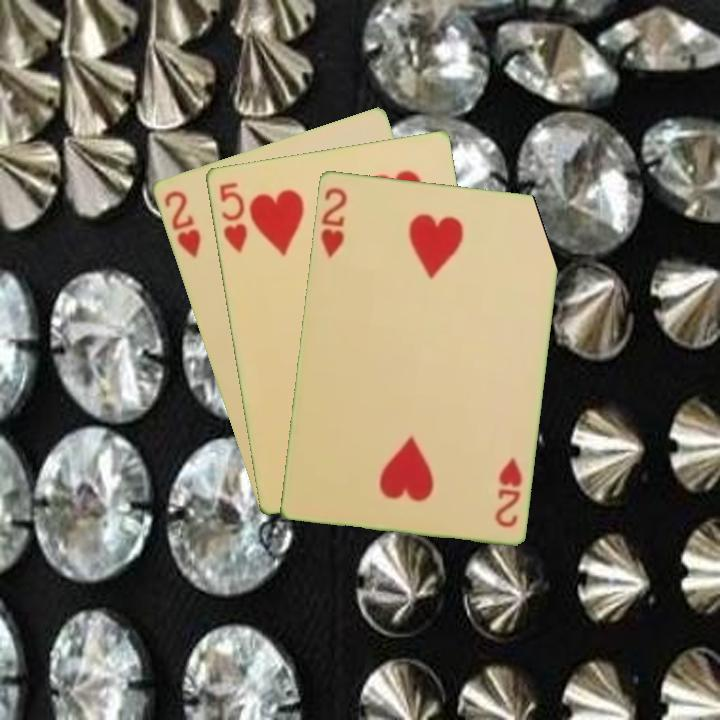2h: (160, 186, 203, 260), (490, 453, 525, 530), (316, 183, 350, 260)
5h: (215, 178, 250, 255)
